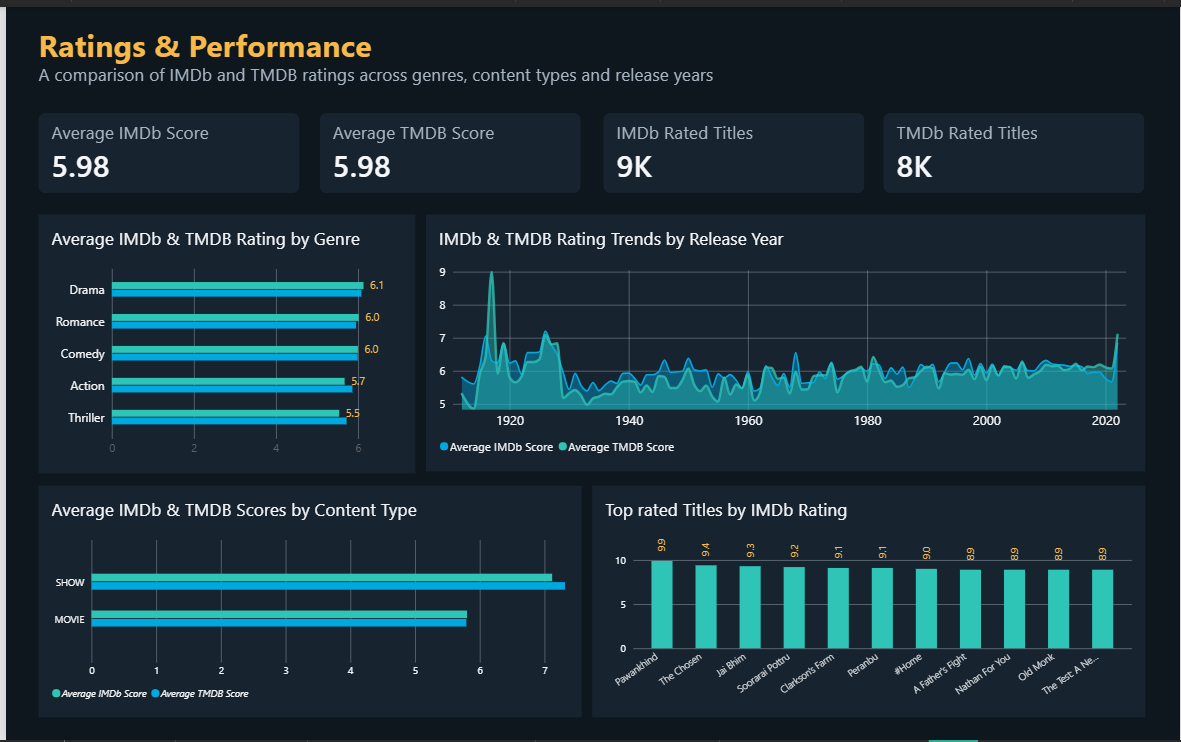

This screenshot's page, from the dashboard's own definition file:
{"tool":"powerbi","page":{"name":"Ratings & Performance","canvas":[1440,900],"ordinal":2},"visuals":[{"type":"textbox","box":[40,22,463.3,60],"z":0},{"type":"textbox","box":[40,68,948,86],"z":1000},{"type":"cardVisual","fields":{"Data":["titles.Average IMDb Score"]},"box":[40,130,320,98],"z":2000},{"type":"cardVisual","fields":{"Data":["titles.Average TMDB Score"]},"box":[385.7,130,320,98],"z":3000},{"type":"cardVisual","fields":{"Data":["titles.IMDb Rated Titles"]},"box":[732.9,130,320,98],"z":4000},{"type":"cardVisual","fields":{"Data":["titles.TMDb Rated Titles"]},"box":[1077.1,130,320,98],"z":5000},{"type":"clusteredBarChart","title":"Average IMDb & TMDB Rating by Genre","fields":{"Category":["Genre Analysis.genres"],"Y":["titles.Average IMDb Score by Genre","titles.Average TMDb Score by Genre"]},"box":[40,255,462.5,317.5],"z":6000},{"type":"lineChart","title":"IMDb & TMDB Rating Trends by Release Year","fields":{"Category":["titles.release_year"],"Y":["titles.Average IMDb Score","titles.Average TMDB Score"]},"box":[515,255,882.5,315],"z":7000},{"type":"clusteredBarChart","title":"Average IMDb & TMDB Scores by Content Type","fields":{"Category":["titles.type"],"Y":["titles.Average IMDb Score","titles.Average TMDB Score"]},"box":[40,588,666,284],"z":8000},{"type":"clusteredColumnChart","title":"Top rated Titles by IMDb Rating","fields":{"Category":["titles.title"],"Y":["Avg(titles.imdb_score)"]},"box":[720,588,678,284],"z":9000}]}

Visuals, with their boxes in screenshot pixels (x1, y1, x2, y2), scaled from the page's 1440x900 canvas onto the 1181x742 screenshot:
textbox: 33,18,413,68
textbox: 33,56,810,127
cardVisual - titles.Average IMDb Score: 33,107,295,188
cardVisual - titles.Average TMDB Score: 316,107,579,188
cardVisual - titles.IMDb Rated Titles: 601,107,864,188
cardVisual - titles.TMDb Rated Titles: 883,107,1146,188
"Average IMDb & TMDB Rating by Genre" clusteredBarChart: 33,210,412,472
"IMDb & TMDB Rating Trends by Release Year" lineChart: 422,210,1146,470
"Average IMDb & TMDB Scores by Content Type" clusteredBarChart: 33,485,579,719
"Top rated Titles by IMDb Rating" clusteredColumnChart: 590,485,1147,719
